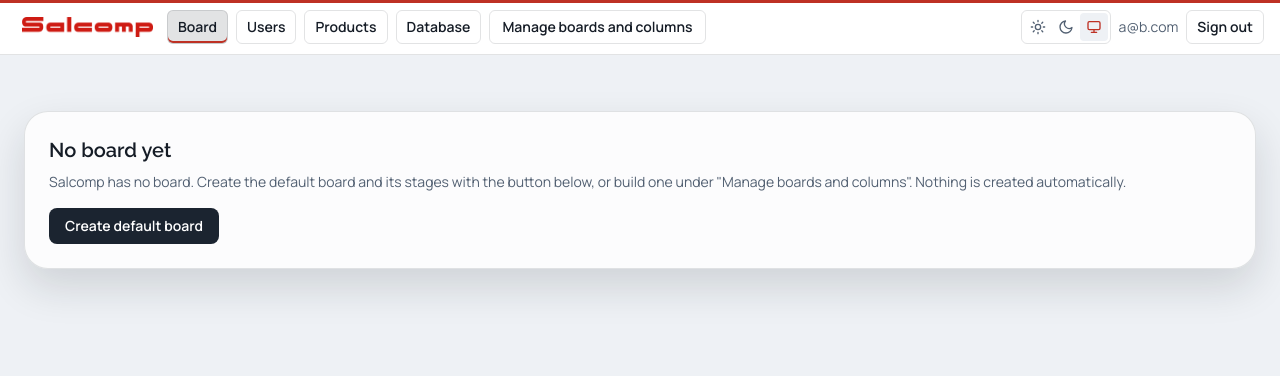
it: create default board › sends one company-scoped POST, then selects and opens the returned board
Click the button "Create default board" at (134, 226), box x1=49 y1=208 x2=219 y2=244
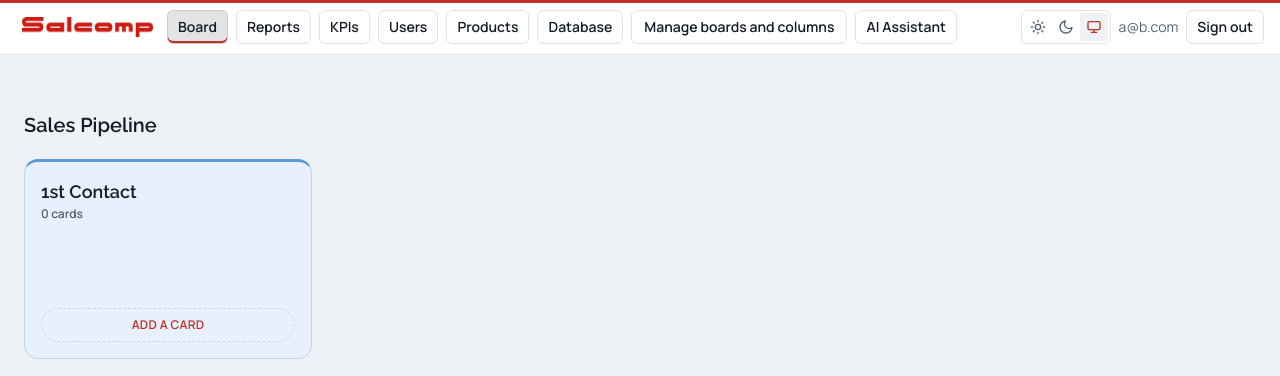
Result: the element with test id "central-board" is shown at x1=24 y1=113 x2=312 y2=359
Result: the element with test id "central-empty-workspace" is gone
